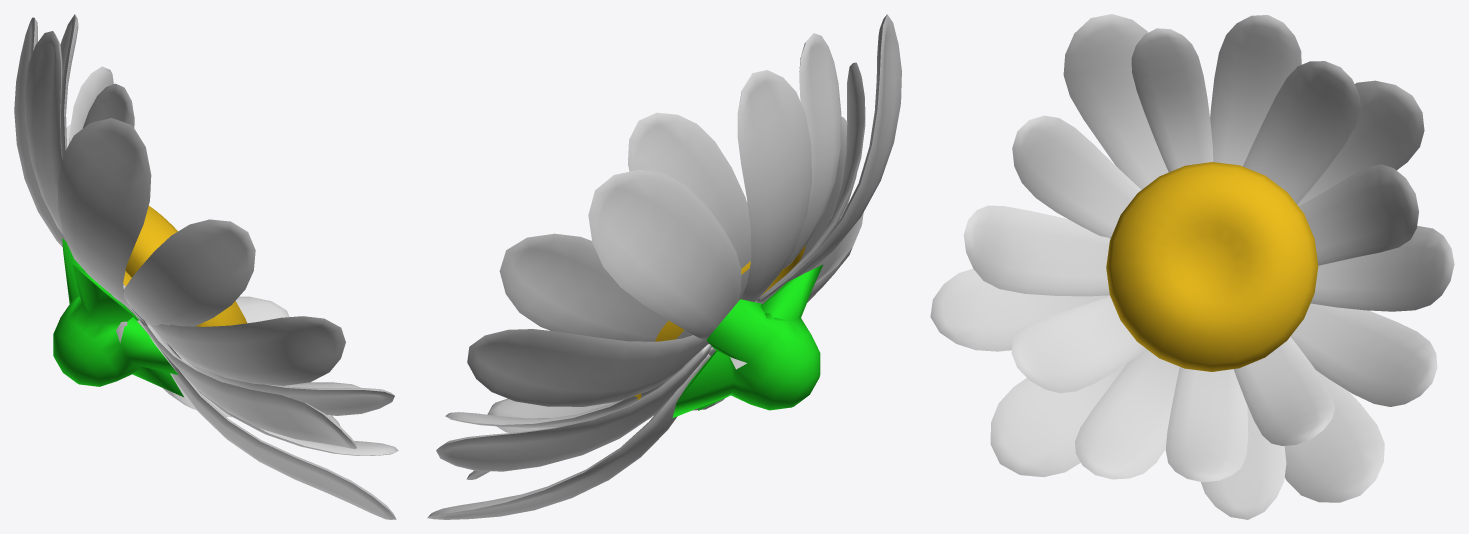
File: Fleur2.glb
The picture shows the model from 3 angles, left to right: view 1: azimuth 30°, elevation 25°; view 2: azimuth 150°, elevation 25°; view 3: azimuth 270°, elevation 25°; orthographic projection. The views are drawn at different scales.
Visible parts, largest first — view 1: Paquerette; view 2: Paquerette; view 3: Paquerette.
Boxes of the visible parts, left/top/right/bottom form: Paquerette: left=14, top=14, right=398, bottom=519; Paquerette: left=427, top=14, right=901, bottom=519; Paquerette: left=930, top=14, right=1454, bottom=519.
Bounding box in the file's own units: 1.63 × 2.12 × 2.58.
